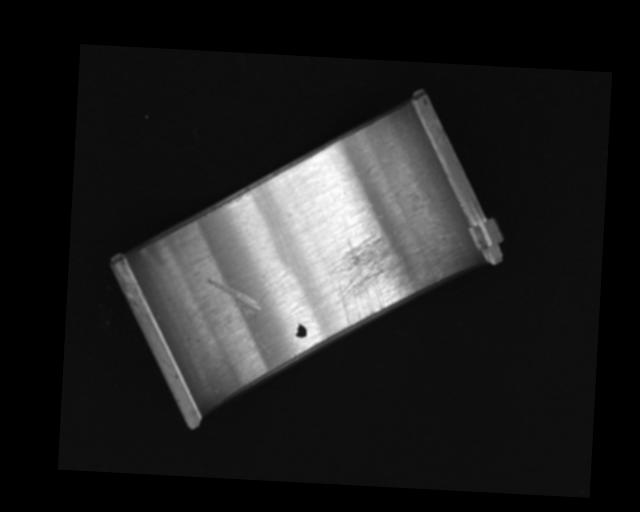blot: (295, 322, 308, 339)
nick: (205, 278, 263, 318), (252, 287, 277, 356)
scratch: (324, 230, 435, 332)
